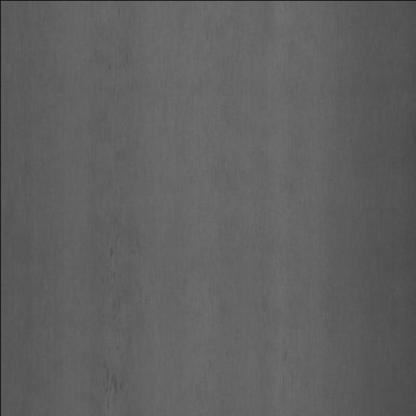silk_spot: (89, 174, 159, 410)
